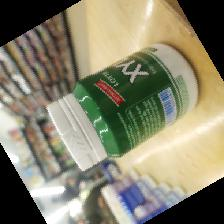Xylitol_green: (44, 42, 199, 174)
